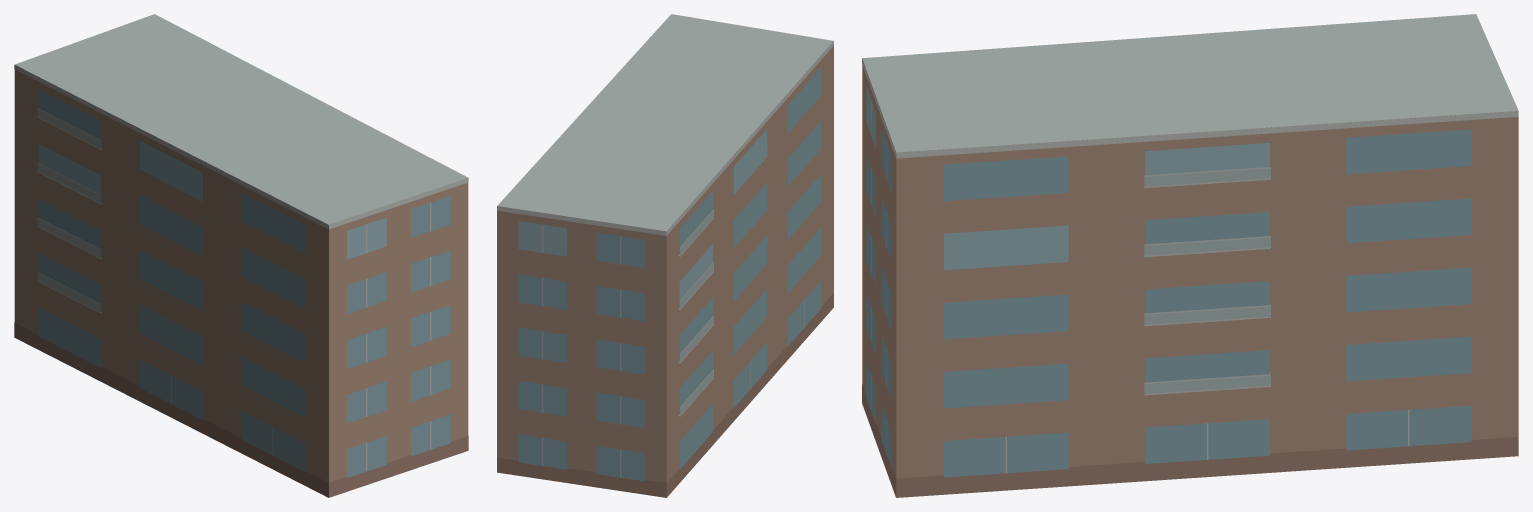
File: survey-upis-32698998.glb
3 views of the same model, side by side, from view 1: azimuth 30°, elevation 25°; view 2: azimuth 150°, elevation 25°; view 3: azimuth 270°, elevation 25° (orthographic). The views are drawn at different scales.
Parts seen in each view (by area): view 1: survey-upis-32698998.tmp; view 2: survey-upis-32698998.tmp; view 3: survey-upis-32698998.tmp.
Boxes of the visible parts, x1,y1,x2,y2 form: survey-upis-32698998.tmp: [14, 14, 468, 497]; survey-upis-32698998.tmp: [497, 14, 833, 497]; survey-upis-32698998.tmp: [862, 14, 1518, 497].
Size of the model in its own units: 12.15 by 14.1 by 24.31.
